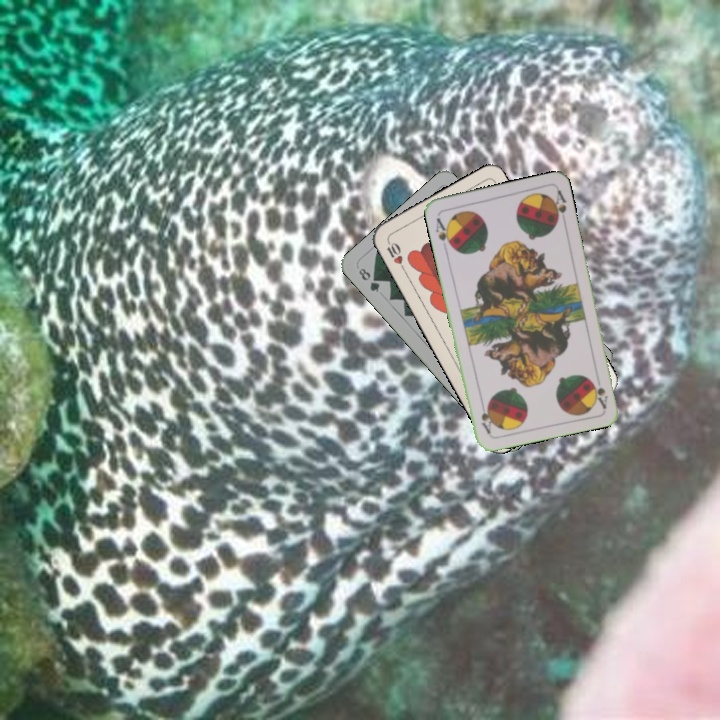G8: (354, 264, 383, 295)
H10: (382, 237, 408, 274)
SA: (431, 213, 455, 251), (588, 377, 611, 411)
